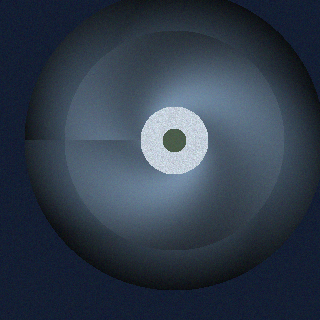cyclone_body: (58, 24, 289, 256)
cyclone_eye: (161, 127, 187, 153)
